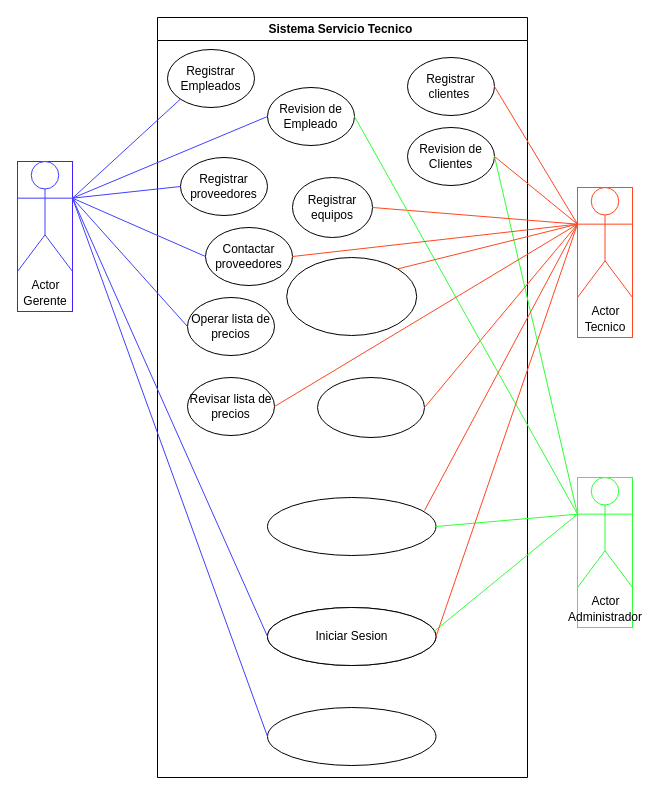
Image size: 659x795. Some labels were removed from this diagram. Each missing label, with the centre of its shape:
"Carta de entrega" belongs at (x=351, y=526).
"Gestinar Usuarios" belongs at (x=351, y=736).
"reparacion de equipo y registro de fecha" belongs at (x=370, y=407).
"Revision Equipo y presupuesto de reparacion" belongs at (x=351, y=296).
